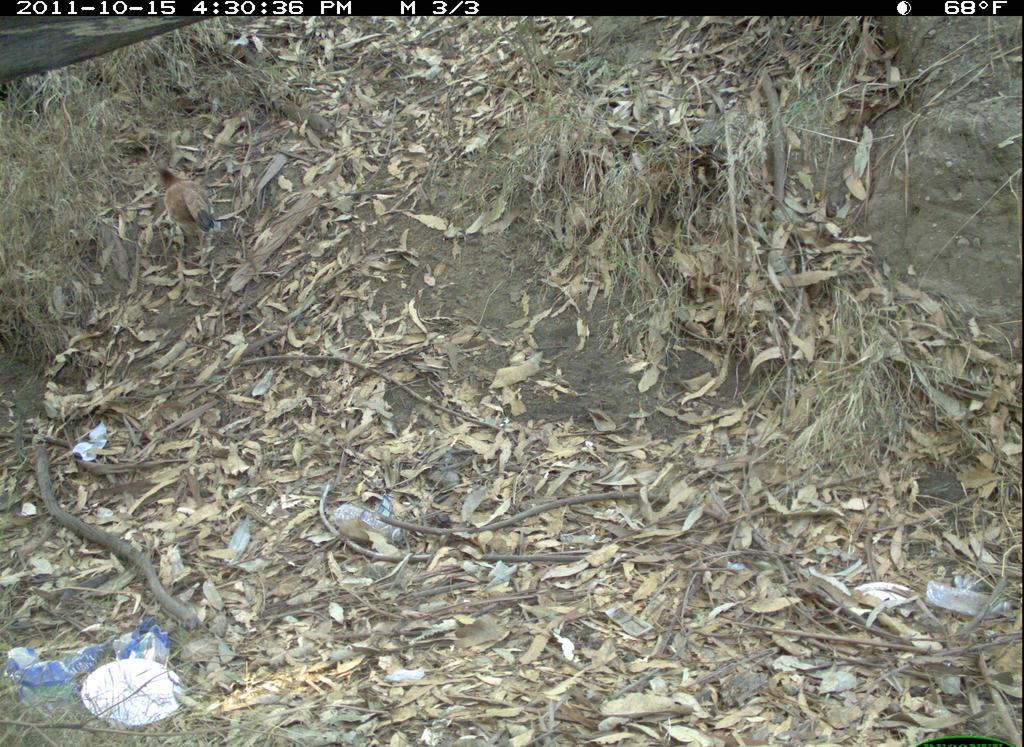bird: (152, 166, 229, 262)
